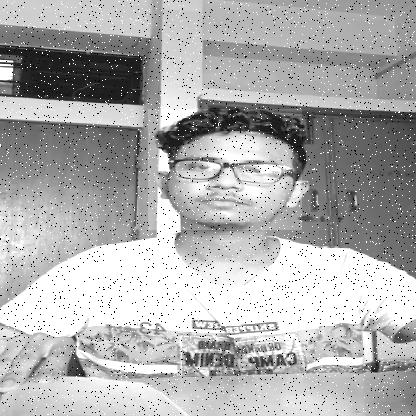Normal: (148, 109, 302, 230)
